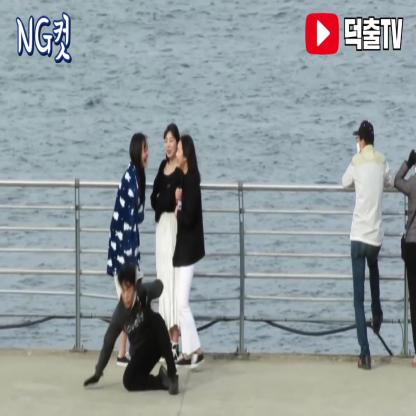Fall_Down: (83, 258, 179, 396)
